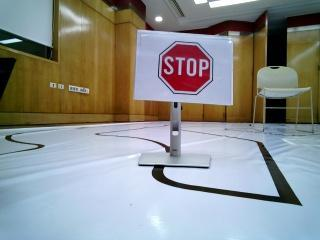stop: (139, 34, 222, 103)
